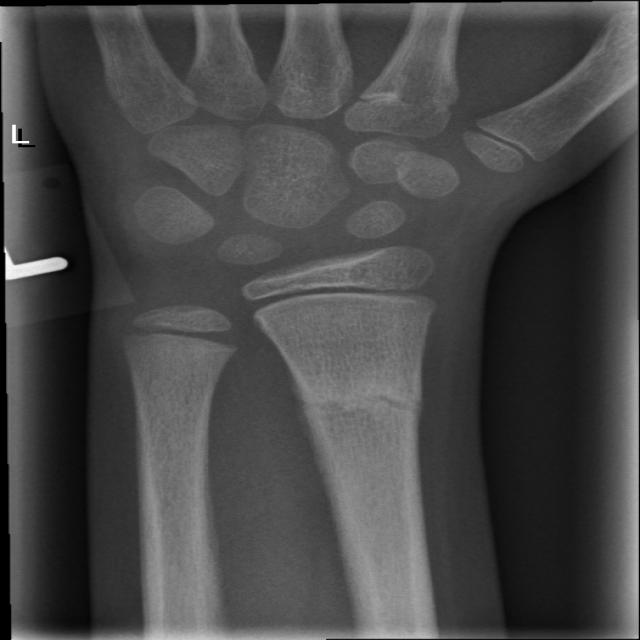radius fracture: (268, 363, 451, 457)
